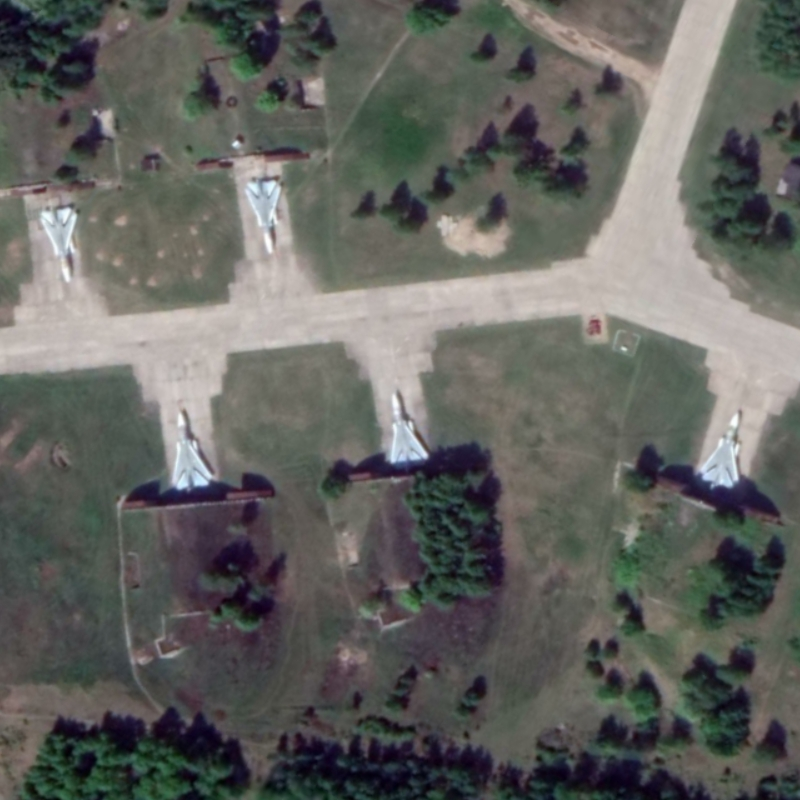A20: (169, 409, 215, 492), (699, 410, 745, 491), (36, 203, 80, 286), (385, 389, 431, 465), (243, 176, 284, 256)
